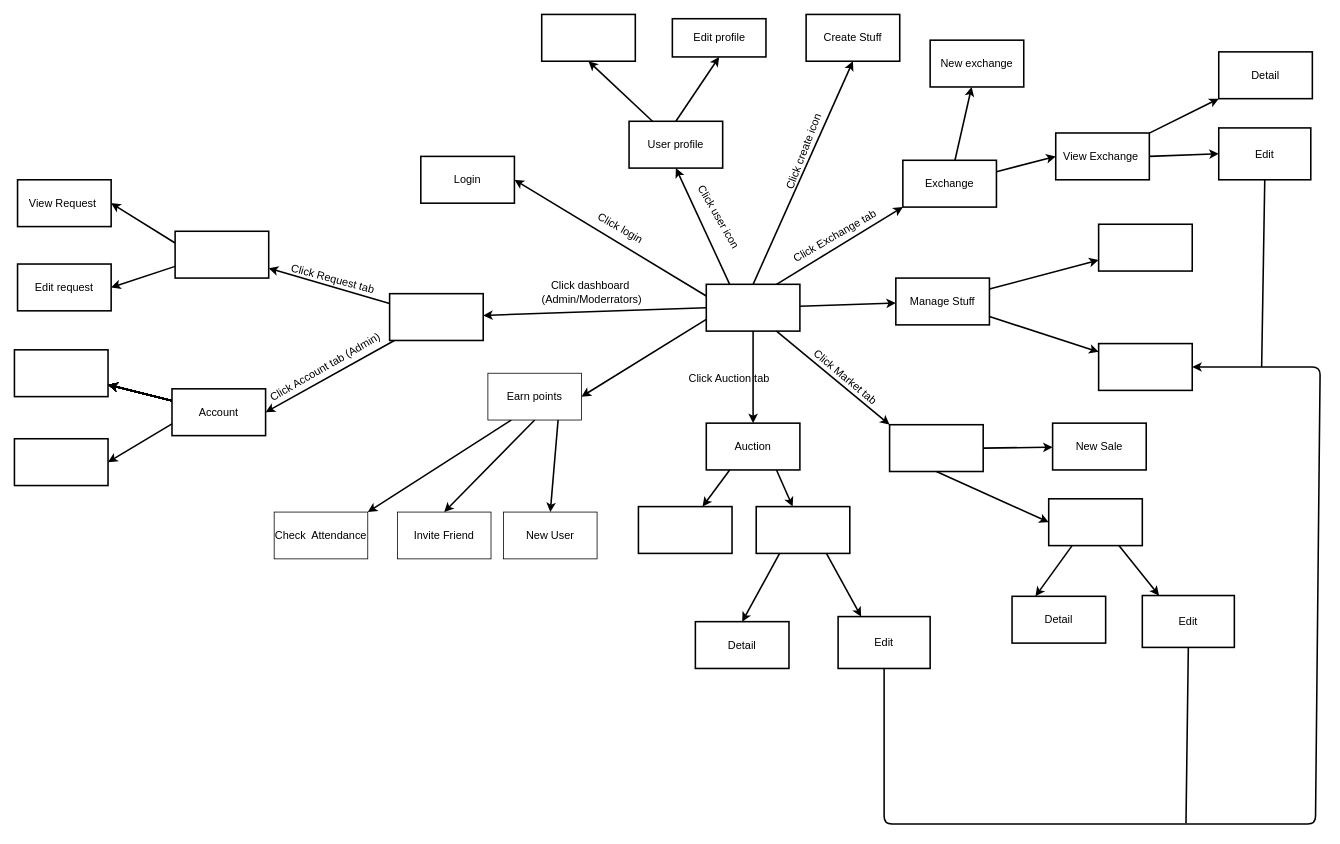
Some shapes in this 1340 by 844 pixel diagram are drawn without their labels. The centre of each missing label's shape, as x and y in pixels:
"Dashboard" belongs at (x=436, y=316).
"Edit account" belongs at (x=60, y=462).
"Edit Stuff" belongs at (x=1145, y=366).
"History" belongs at (x=588, y=37).
"Home Page" belongs at (x=752, y=307).
"Market" belongs at (x=936, y=448).
"New Auction" belongs at (x=684, y=529).
"Request" belongs at (x=221, y=254).
"View Account" belongs at (x=60, y=373).
"View Auction" belongs at (x=802, y=529).
"View Market" belongs at (x=1095, y=522).
"View Own Stuff" belongs at (x=1145, y=247).
